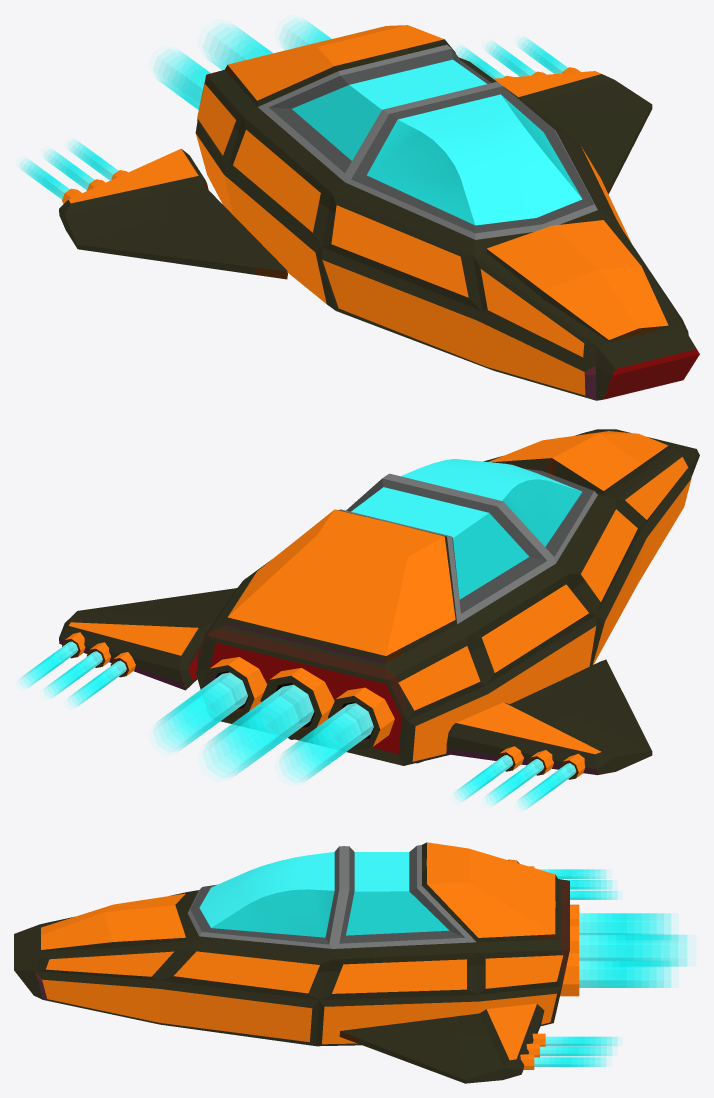
The model's file is enemy2.glb.
3 views of the same model, one above another, from view 1: azimuth 30°, elevation 25°; view 2: azimuth 150°, elevation 25°; view 3: azimuth 270°, elevation 25° (orthographic). The views are drawn at different scales.
Visible parts, largest first — view 1: Cube.001_Material_0; view 2: Cube.001_Material_0; view 3: Cube.001_Material_0.
Part boxes in pixels (box(x1,y1,x2,y2)): Cube.001_Material_0: box(20, 18, 699, 400); Cube.001_Material_0: box(20, 429, 699, 809); Cube.001_Material_0: box(14, 842, 687, 1083).
Size of the model in its own units: 522 by 164 by 696.
Materials: 1 (1 with a texture image).
